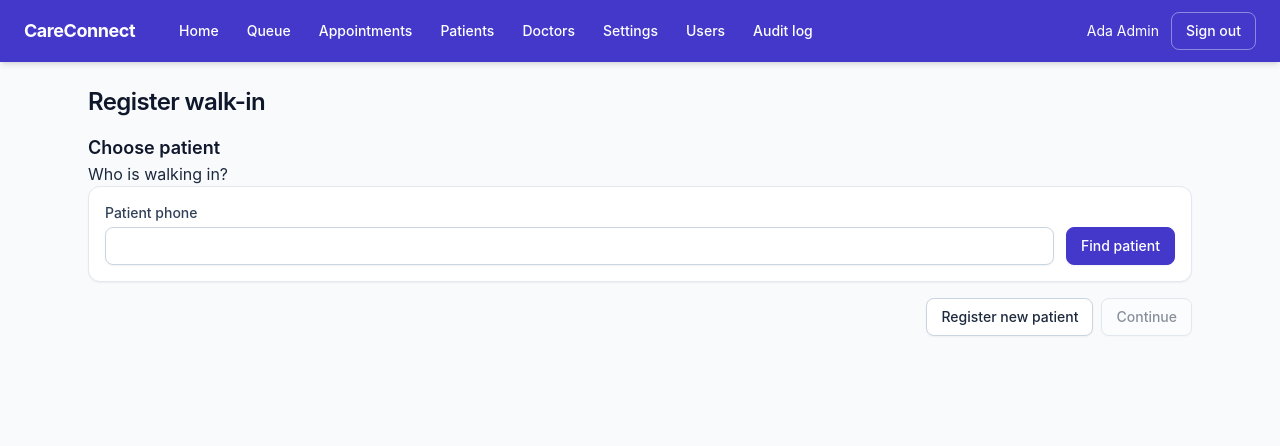
Test: Walk-in registration › offers the requested doctor first when they have regular slots
Type "98765 43210" into the field labelled "Patient phone" at (580, 246), box [105,227,1054,265]
Click the button "Find patient" at (1120, 246), box [1066,227,1175,265]
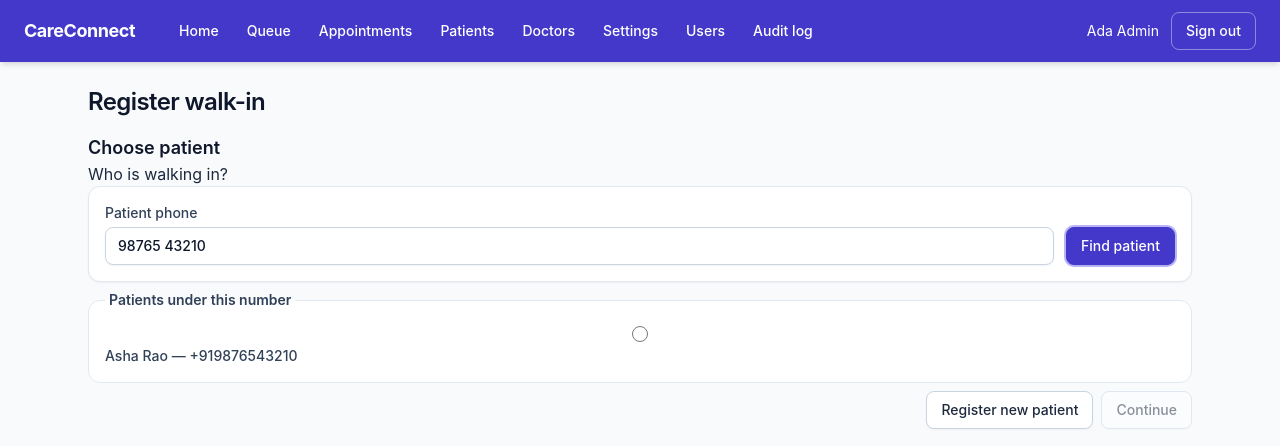
Click the radio button labelled "Asha Rao — +919876543210" at (640, 334), box [105,326,1175,342]
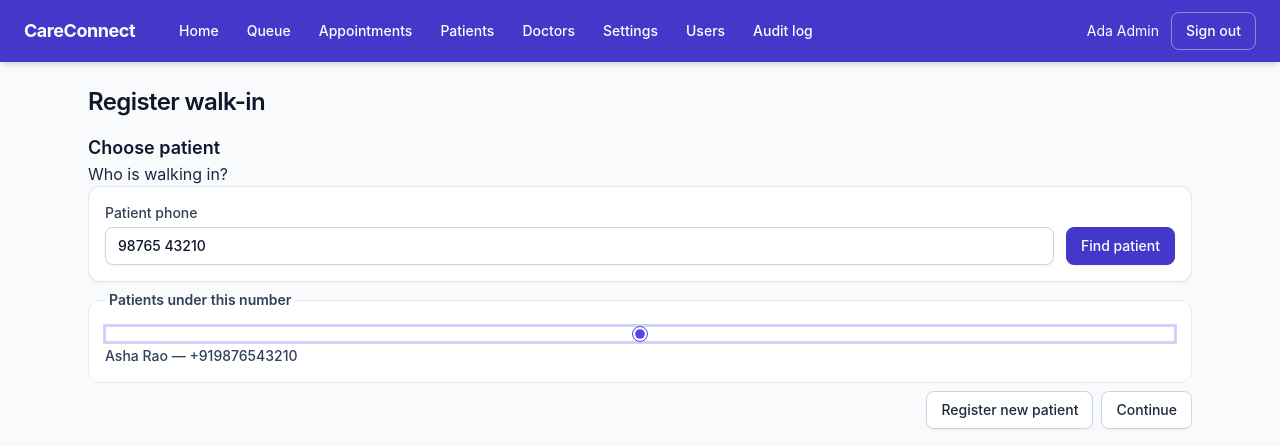
Click the button "Continue" at (1147, 410), box [1102,391,1192,429]
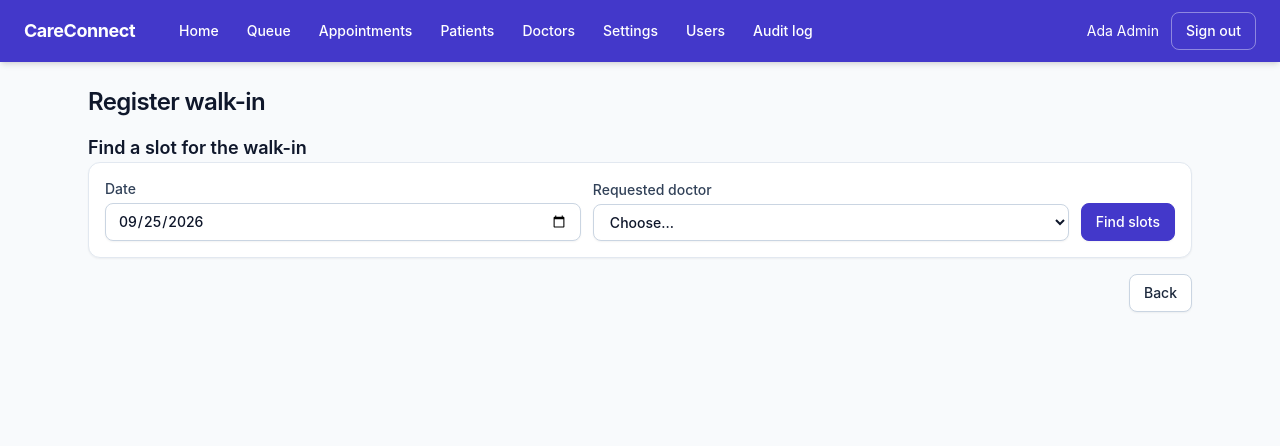
Type "2026-03-02" into the date field labelled "Date" at (343, 222), box [105,203,581,241]
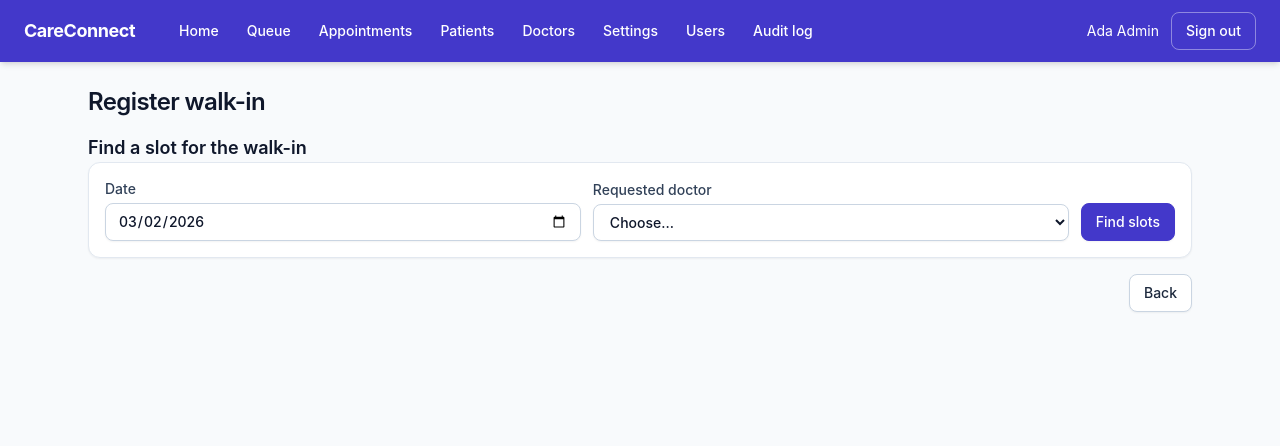
Select "Dr Dan" in the dropdown labelled "Requested doctor" at (831, 222), box [593,204,1069,241]
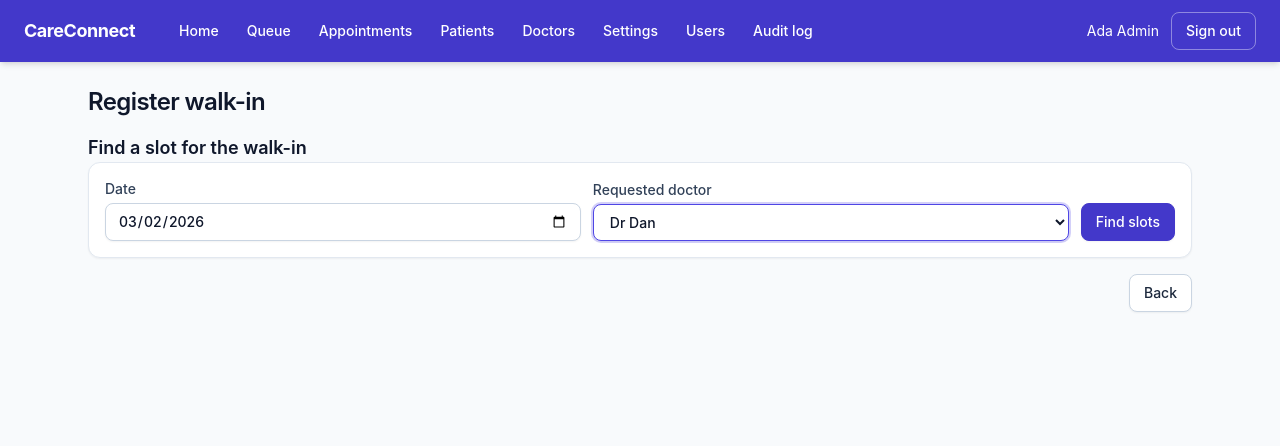
Click the button "Find slots" at (1128, 222), box [1081,203,1175,241]
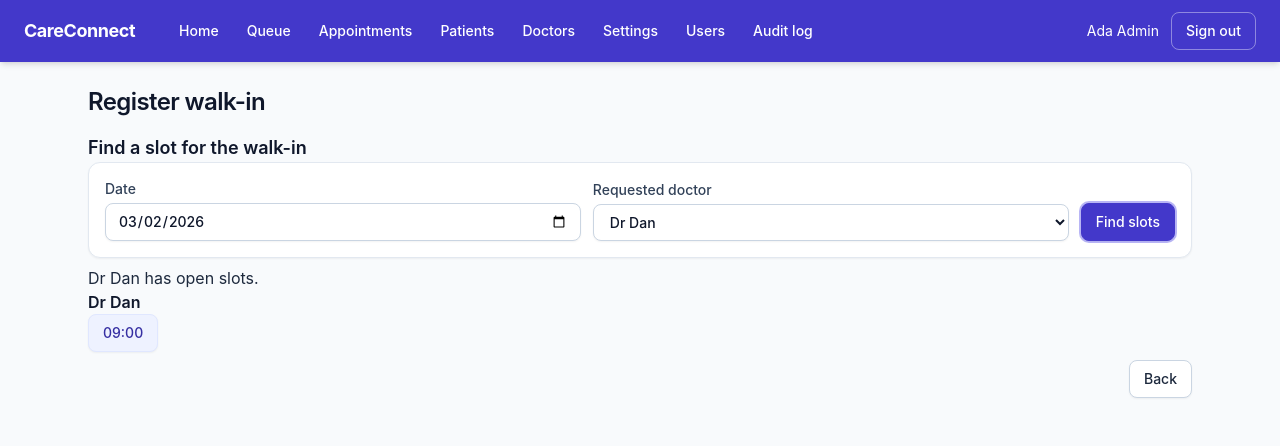
Expected: the text "Dr Dan has open slots." is shown, [88,268,259,288]
Expected: the button "09:00" is shown, [88,314,158,352]
